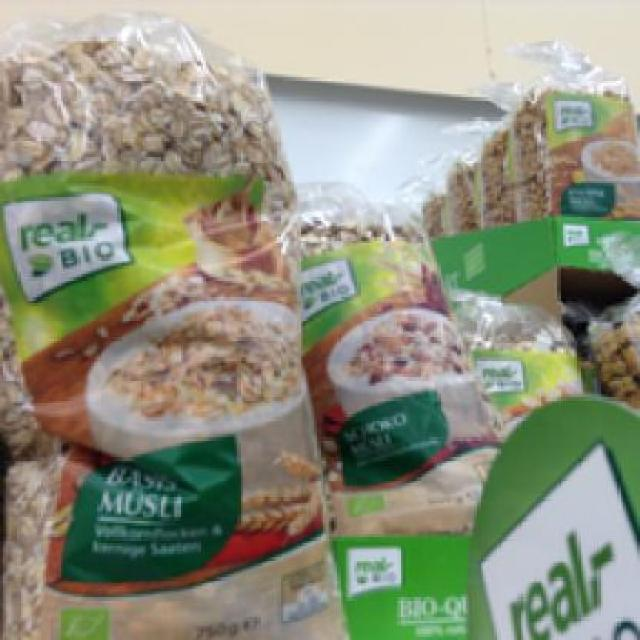Cereal: (0, 48, 343, 634), (283, 186, 520, 523), (517, 77, 634, 217)
